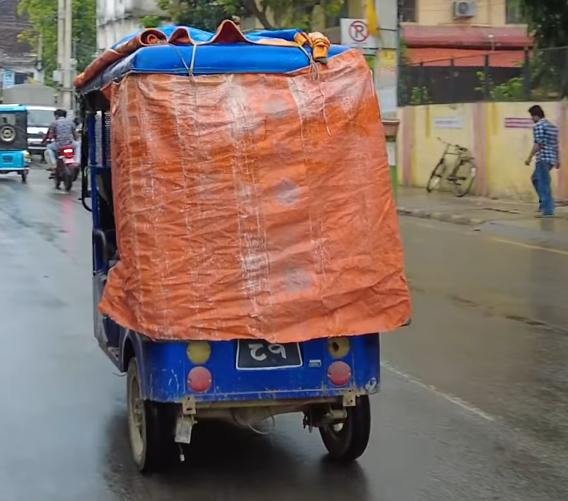e-rickshaw: (66, 19, 409, 470), (0, 103, 32, 184)
